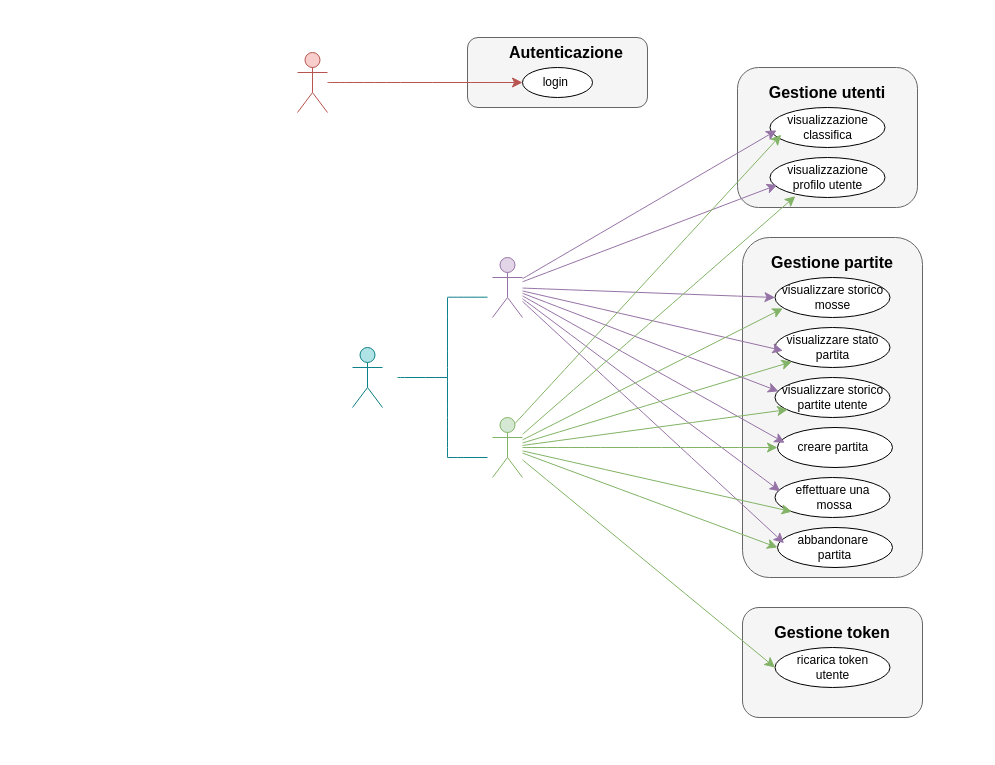
Image size: 995x765. Some labels were removed from this diagram. Each missing label, with the centre of its shape:
"Admin" goes at point (507, 447).
"User" goes at point (507, 287).
"Utente autenticato" goes at point (367, 377).
"Utente non autenticato" goes at point (312, 82).
